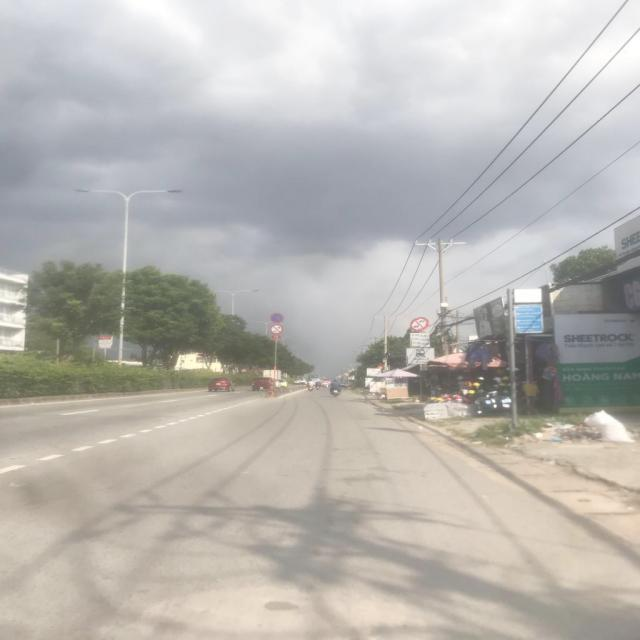cam_dung_xe_va_do_xe: (270, 312, 283, 324)
cam_o_to_tai_va_xe_khach: (411, 317, 430, 332)
cam_xe_2_banh_va_xe_3_banh_co_dong_co: (270, 324, 283, 335)
khac: (406, 348, 434, 364), (410, 333, 430, 348)
